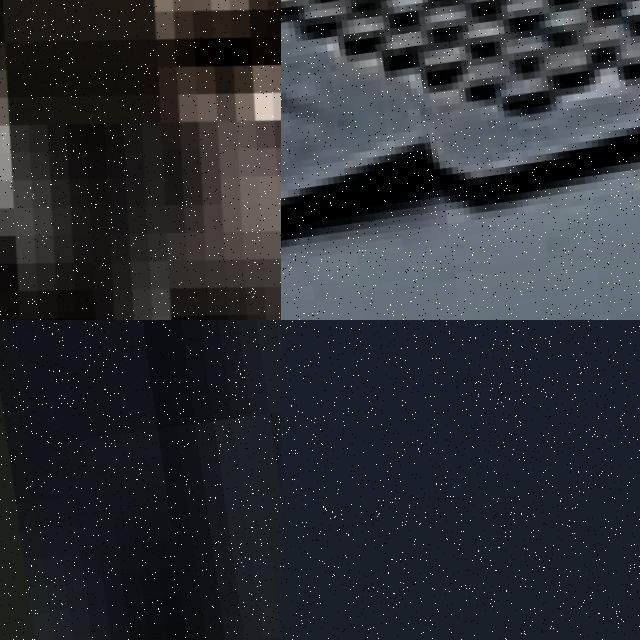drone: (0, 0, 281, 320)
